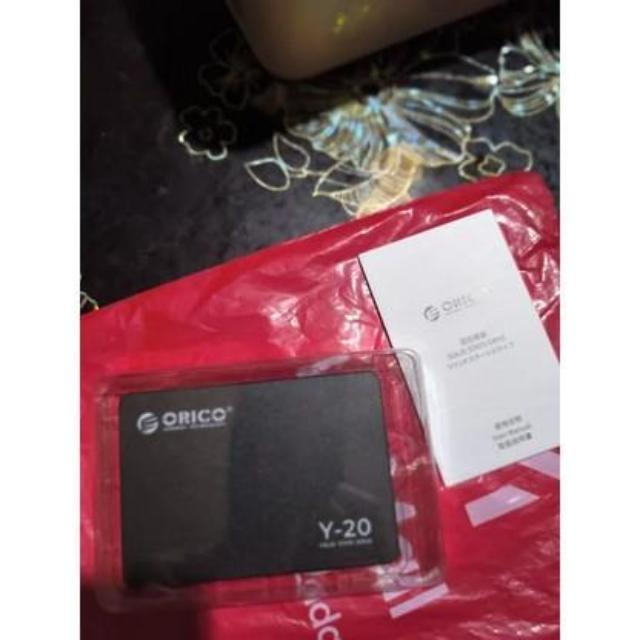DISK: (110, 368, 402, 600)
